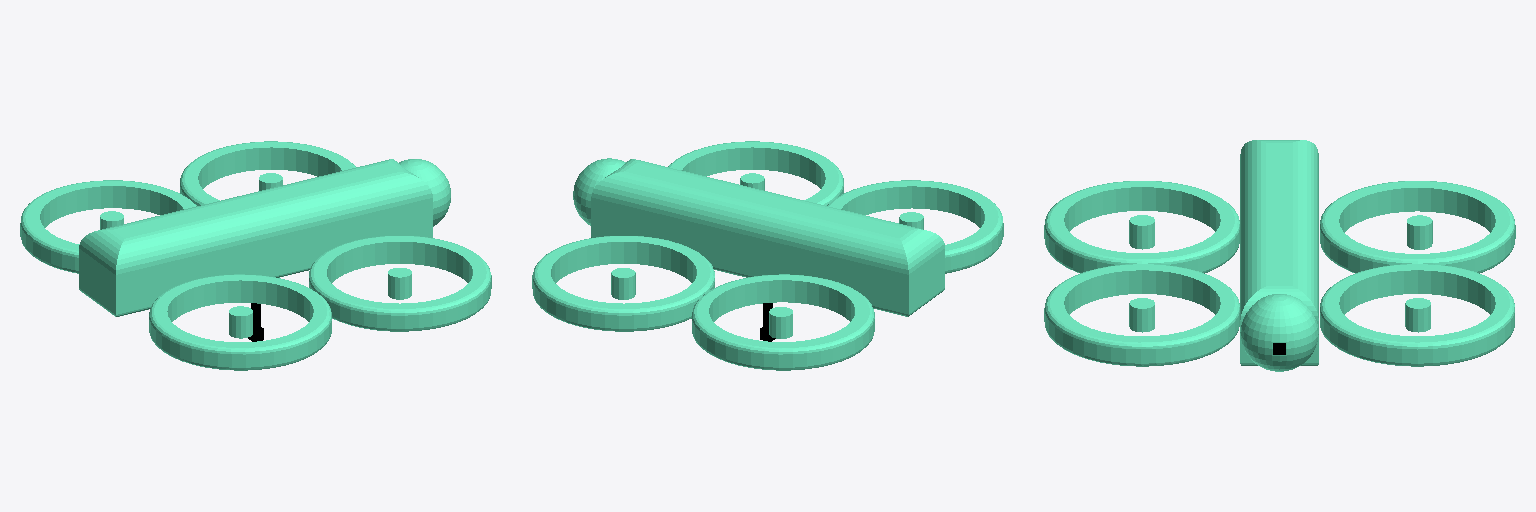
The robot description file, URDF, robot "simdrone":
<?xml version="1.0" ?>
<!-- =================================================================================== -->
<!-- |    This document was autogenerated by xacro from simdrone.xacro                 | -->
<!-- |    EDITING THIS FILE BY HAND IS NOT RECOMMENDED                                 | -->
<!-- =================================================================================== -->
<robot name="simdrone">
  <!-- Base Link with Mesh -->
  <link name="Root">
    <visual>
      <origin rpy="1.5708 0 0" xyz="0.075 -0.015 0.1"/>
      <geometry>
        <mesh filename="package://nitro_description/meshes/simdrone.stl" scale="0.001 0.001 0.001"/>
      </geometry>
      <material name="light_blue">
        <color rgba="0.498 1 0.831 1.0"/>
      </material>
    </visual>
    <inertial>
      <origin xyz="0 0 0"/>
      <mass value="0.6"/>
      <inertia ixx="0.002405" ixy="0.0" ixz="0.0" iyy="0.002405" iyz="0.0" izz="0.004"/>
    </inertial>
  </link>

  <joint name="Pan_joint" type="revolute">
    <parent link="Root"/>
    <child link="link_Pan"/>
    <axis xyz="0 0 1"/>
    <limit effort="30" lower="-1.047197" upper="1.047197" velocity="1.5"/>
    <origin xyz="0.075 0 0.115"/>
  </joint>
  <link name="link_Pan">
    <visual>
      <geometry>
        <sphere radius="0.015"/>
      </geometry>
      <material name="light_blue"/>
    </visual>
    <collision>
      <geometry>
        <sphere radius="0.015"/>
      </geometry>
      <material name="light_blue"/>
    </collision>
  </link>

  <joint name="Tilt_joint" type="revolute">
    <parent link="link_Pan"/>
    <child link="link_Tilt"/>
    <axis xyz="0 1 0"/>
    <limit effort="30" lower="-1.047197" upper="1.047197" velocity="1.5"/>
  </joint>
  <link name="link_Tilt">
    <visual>
      <geometry>
        <sphere radius="0.015"/>
      </geometry>
      <material name="light_blue"/>
    </visual>
    <collision>
      <geometry>
        <sphere radius="0.015"/>
      </geometry>
      <material name="light_blue"/>
    </collision>
  </link>




  <joint name="FrontCamera_joint" type="fixed">
    <parent link="link_Tilt"/>
    <child link="FrontCamera_link"/>
    <!--origin rpy="1.5708 -1.5708  0" xyz="0.015 0 0"/-->
    <origin xyz="0.015 0 0" rpy="0 1.5708  0"/>
  </joint>
  <link name="FrontCamera_link">
    <visual>
      <origin rpy="0 0 0" xyz="0 0 0"/>
      <geometry>
        <box size="0.005 0.005 0.0001"/>
      </geometry>
      <material name="black">
        <color rgba="0 0 0 1"/>
      </material>
    </visual>
  </link>
  <link name="FrontCamera"/>
  <joint name="FrontCamera_joint2" type="fixed">
    <parent link="FrontCamera_link"/>
    <child link="FrontCamera"/>
  </joint>

  <!-- RangeSensor (LIDAR) -->
  <joint name="range_sensor_joint1" type="fixed">
    <parent link="Root"/>
    <child link="range_sensor_link1"/>
    <origin xyz="0 0 0.085"/>
  </joint>
  <link name="range_sensor_link1">
    <visual>
      <origin rpy="0 0 0" xyz="0 0 0"/>
      <geometry>
        <box size="0.003 0.003 0.03"/>
      </geometry>
      <material name="black">
        <color rgba="0 0 0 1"/>
      </material>
    </visual>
  </link>
  <joint name="range_sensor_joint2" type="fixed">
    <parent link="range_sensor_link1"/>
    <child link="range_sensor_link2"/>
    <origin xyz="0 0 -0.015" rpy="0 1.5708  0"/>
  </joint>
  <link name="range_sensor_link2">
    <visual>
      <origin rpy="0 0 0" xyz="0 0 0"/>
      <geometry>
        <box size="0.005 0.005 0.005"/>
      </geometry>
      <material name="black">
        <color rgba="0 0 0 1"/>
      </material>
    </visual>
  </link>
  <link name="RangeSensor"/>
  <joint name="RangeSensor_joint" type="fixed">
    <parent link="range_sensor_link2"/>
    <child link="RangeSensor"/>
  </joint>
  <!-- IMU -->
  <link name="imu_link"/>
  <joint name="imu_joint" type="fixed">
    <parent link="Root"/>
    <child link="imu_link"/>
  </joint>
  <link name="GyroSensor"/>
  <joint name="GyroSensor_joint" type="fixed">
    <parent link="imu_link"/>
    <child link="GyroSensor"/>
  </joint>
  <link name="AccSensor"/>
  <joint name="AccSensor_joint" type="fixed">
    <parent link="imu_link"/>
    <child link="AccSensor"/>
  </joint>
  <link name="FrontLight_link"/>
  <joint name="FrontLight_joint" type="fixed">
    <parent link="link_Tilt"/>
    <child link="FrontLight_link"/>
    <origin rpy="0 0 0" xyz="0.013 0 0.007"/>
  </joint>
  <link name="BackLight_link"/>
  <joint name="BackLight_joint" type="fixed">
    <parent link="Root"/>
    <child link="BackLight_link"/>
    <origin rpy="0 0 0" xyz="-0.075 0 0.115"/>
  </joint>
  <link name="LeftLight_link"/>
  <joint name="LeftLight_joint" type="fixed">
    <parent link="Root"/>
    <child link="LeftLight_link"/>
    <origin rpy="0 0 0" xyz="0 0.015 0.115"/>
  </joint>
  <link name="RightLight_link"/>
  <joint name="RightLight_joint" type="fixed">
    <parent link="Root"/>
    <child link="RightLight_link"/>
    <origin rpy="0 0 0" xyz="0 -0.015 0.115"/>
  </joint>
  <link name="UpLight_link"/>
  <joint name="UpLight_joint" type="fixed">
    <parent link="Root"/>
    <child link="UpLight_link"/>
    <origin rpy="0 0 0" xyz="0.05 0 0.13"/>
  </joint>
  <link name="DownLight_link"/>
  <joint name="DownLight_joint" type="fixed">
    <parent link="Root"/>
    <child link="DownLight_link"/>
    <origin rpy="0 0 0" xyz="0.05 0 0.1"/>
  </joint>
  <link name="ROTOR_RF"/>
  <joint name="ROTOR_RF_joint" type="fixed">
    <parent link="Root"/>
    <child link="ROTOR_RF"/>
    <origin rpy="0 0 0" xyz="0.037 -0.053 0.105"/>
  </joint>
  <link name="ROTOR_LF"/>
  <joint name="ROTOR_LF_joint" type="fixed">
    <parent link="Root"/>
    <child link="ROTOR_LF"/>
    <origin rpy="0 0 0" xyz="0.037 0.053 0.105"/>
  </joint>
  <link name="ROTOR_LR"/>
  <joint name="ROTOR_LR_joint" type="fixed">
    <parent link="Root"/>
    <child link="ROTOR_LR"/>
    <origin rpy="0 0 0" xyz="-0.037 0.053 0.105"/>
  </joint>
  <link name="ROTOR_RR"/>
  <joint name="ROTOR_RR_joint" type="fixed">
    <parent link="Root"/>
    <child link="ROTOR_RR"/>
    <origin rpy="0 0 0" xyz="-0.037 -0.053 0.105"/>
  </joint>
</robot>

--- Render facts (derived) ---
Views: 3 orthographic renders of the robot side by side, from view 1: azimuth 30°, elevation 25°; view 2: azimuth 150°, elevation 25°; view 3: azimuth 270°, elevation 25°.
Model simdrone with 21 links and 20 joints (2 revolute, 18 fixed), rooted at Root, posed all joints at 0.
Links seen in each view (by area): view 1: Root, link_Pan; view 2: Root, link_Pan; view 3: Root, link_Pan.
Link boxes in pixels (bbox=[...]): Root: bbox=[20, 141, 491, 370]; link_Pan: bbox=[399, 159, 450, 226]; Root: bbox=[532, 141, 1003, 370]; link_Pan: bbox=[573, 158, 625, 225]; Root: bbox=[1044, 140, 1515, 366]; link_Pan: bbox=[1240, 294, 1318, 371].
Bounding box of the posed robot: 0.1651 × 0.1803 × 0.0625 m (x, y, z).
1 mesh visuals loaded from 1 distinct referenced files (1 binary STL).
